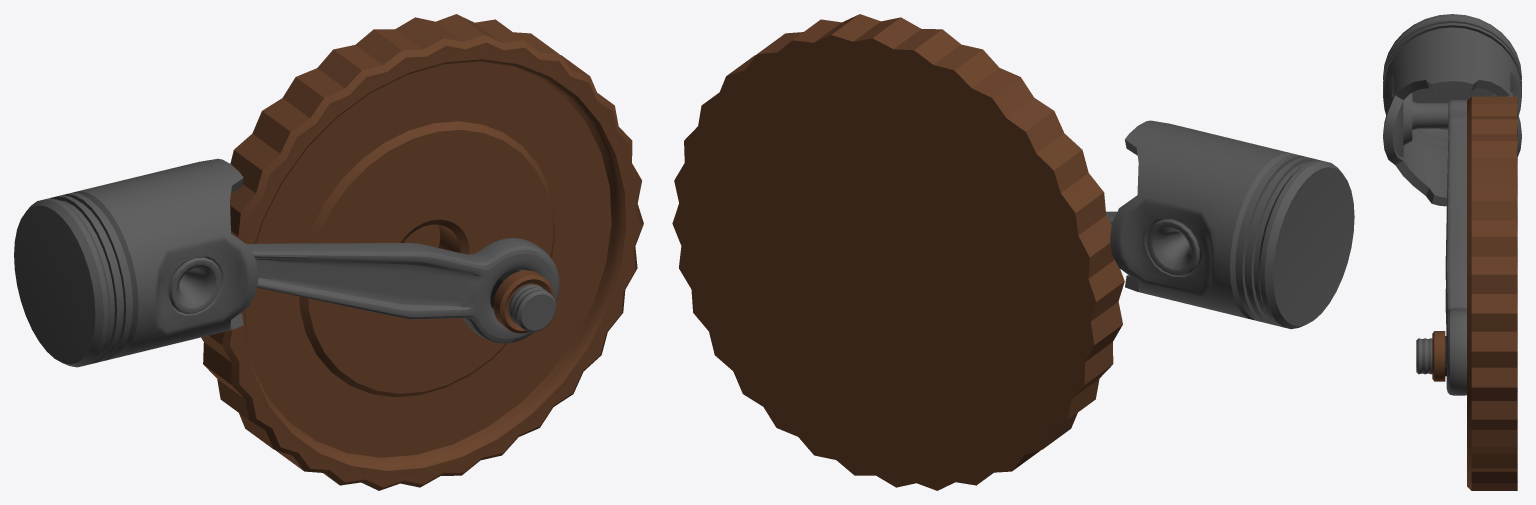
Rendered from Heart.fbx.
The picture shows the model from 3 angles, left to right: view 1: azimuth 30°, elevation 25°; view 2: azimuth 150°, elevation 25°; view 3: azimuth 270°, elevation 25°; orthographic projection. The views are drawn at different scales.
Parts seen in each view (by area): view 1: Gear P, Head, Body; view 2: Gear P, Head; view 3: Gear P, Head, Body.
Boxes of the visible parts, box(x1,y1,x2,y2) form: Gear P: box(201, 14, 643, 490); Head: box(14, 158, 258, 367); Body: box(246, 238, 559, 343); Gear P: box(672, 14, 1124, 490); Head: box(1110, 120, 1354, 329); Gear P: box(1416, 96, 1517, 490); Head: box(1383, 14, 1521, 206); Body: box(1445, 100, 1467, 395).
Size of the model in its own units: 2148 by 532 by 1515.
